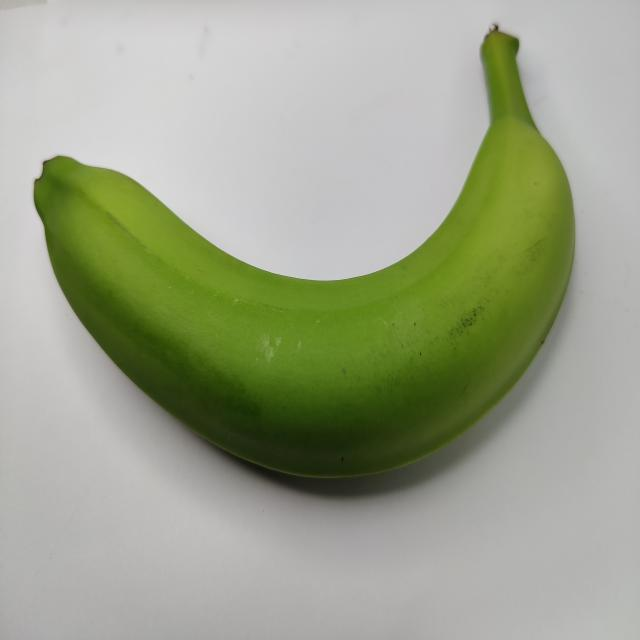raw: (8, 0, 583, 521)
